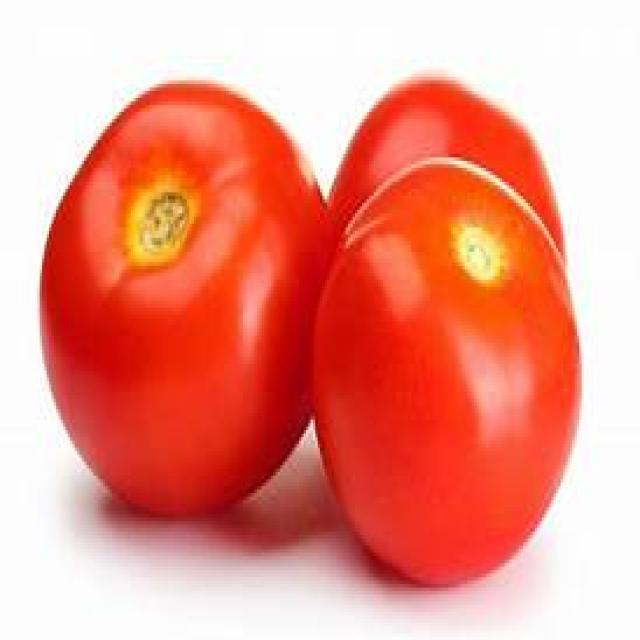Fresh_tomato: (338, 92, 574, 593), (40, 90, 325, 502)
